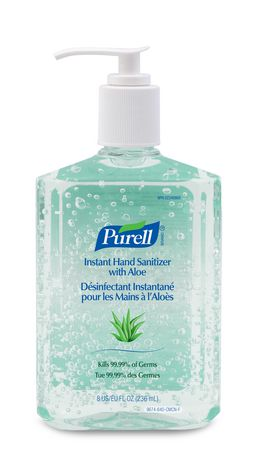Sanitizer: (28, 43, 225, 433)
